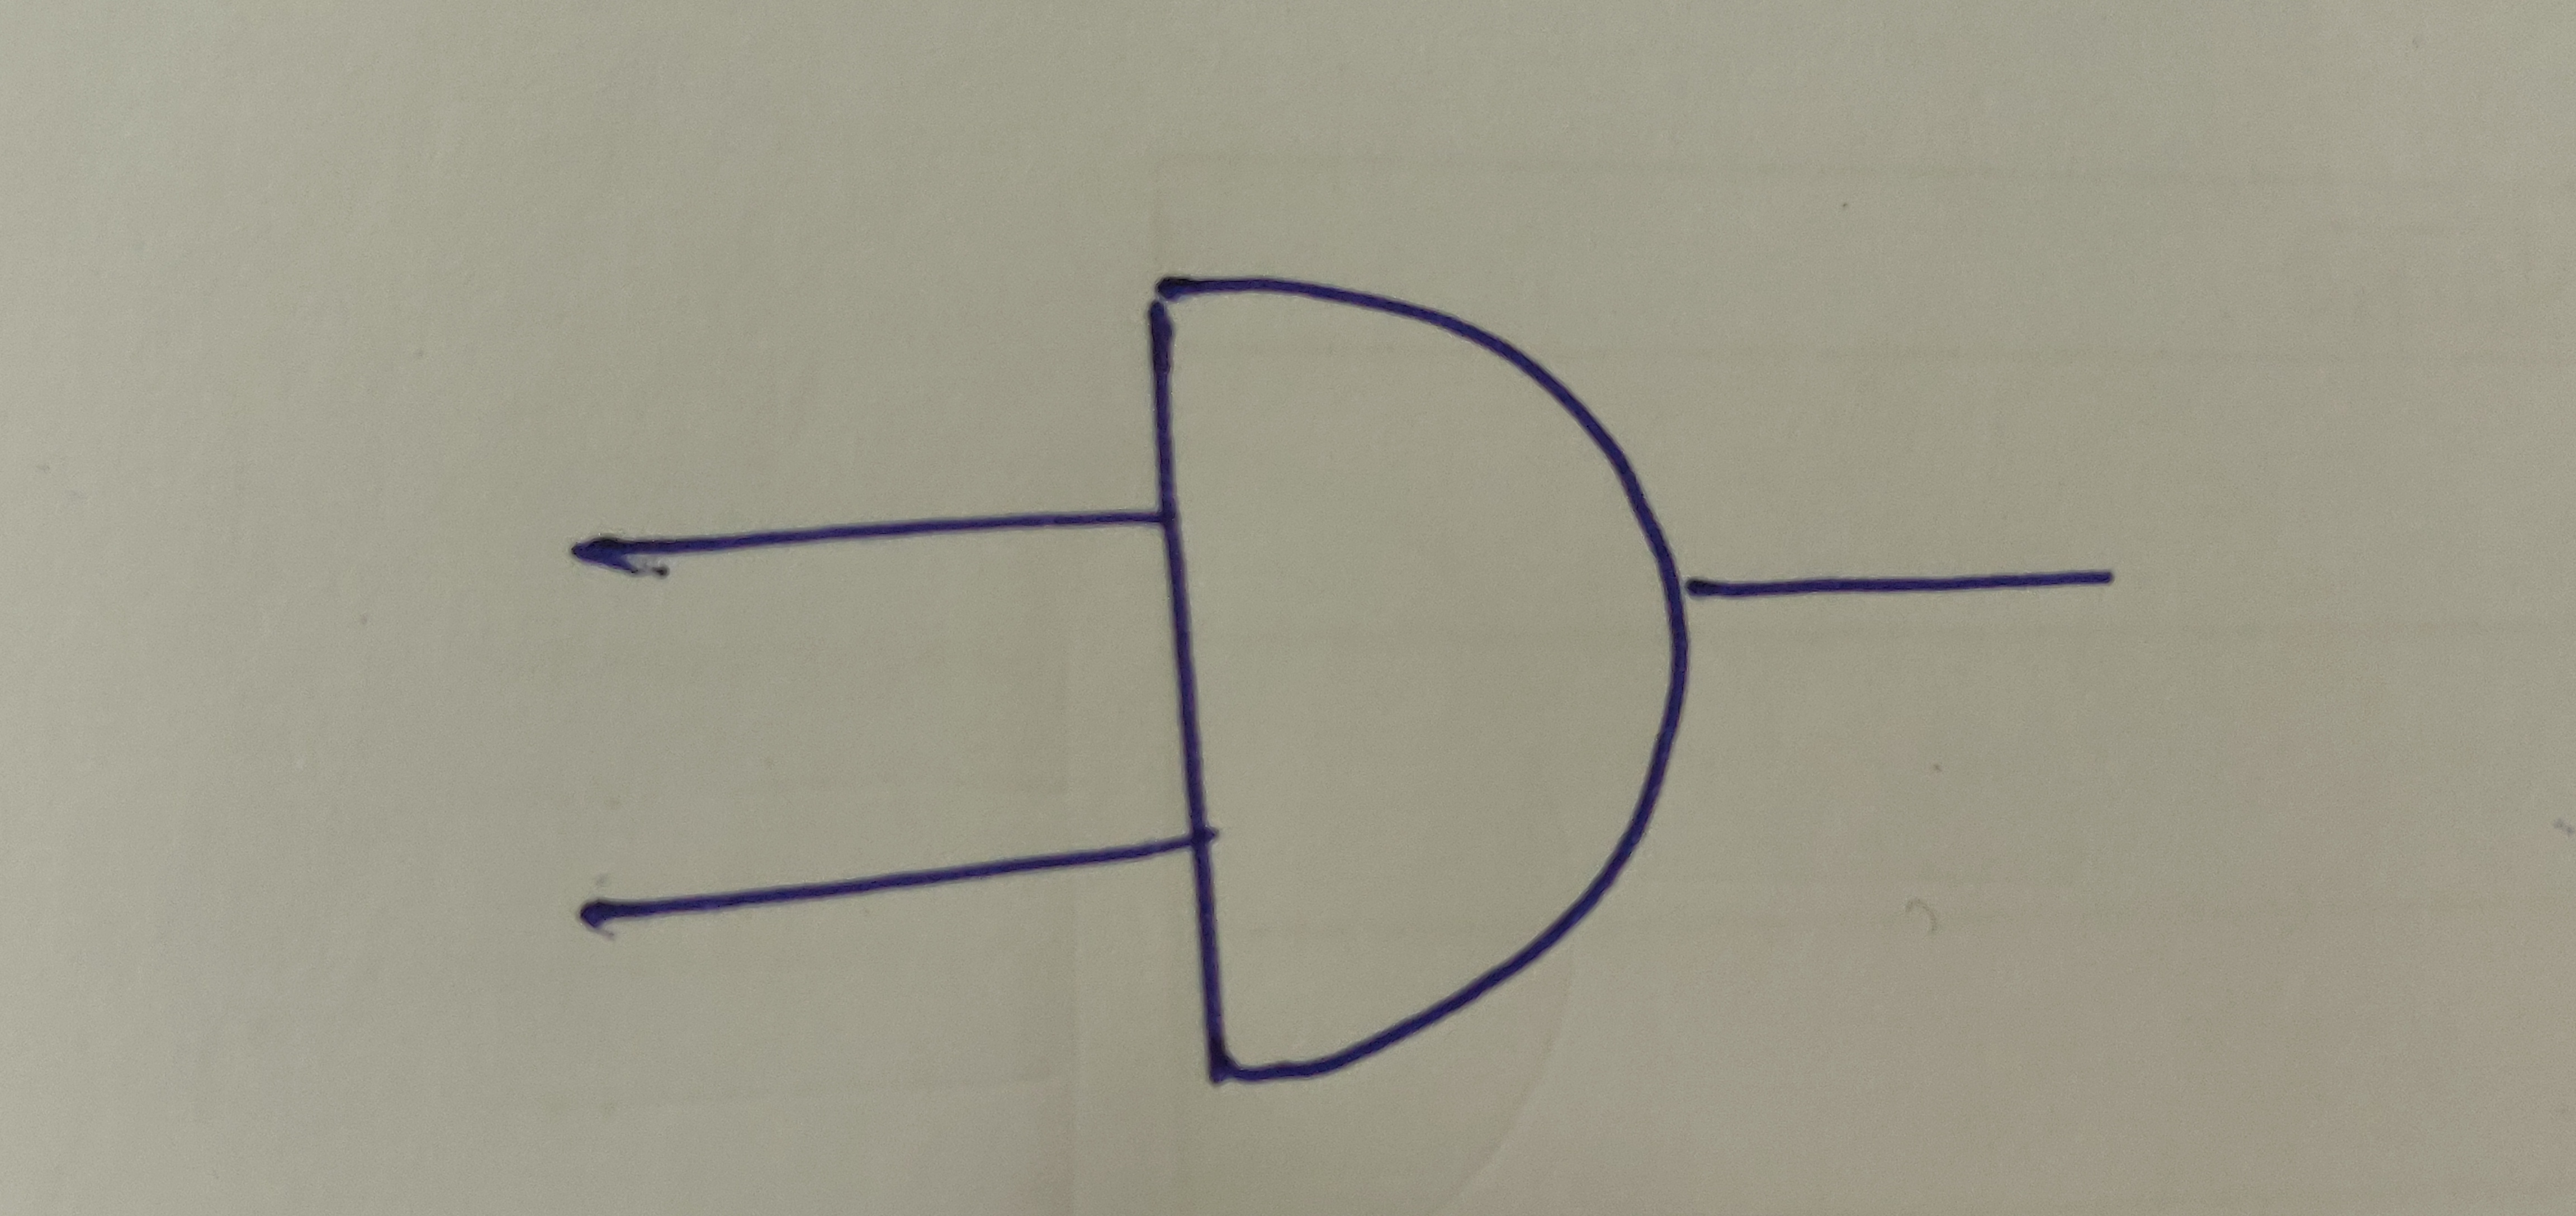and: (1147, 274, 1690, 1085)
